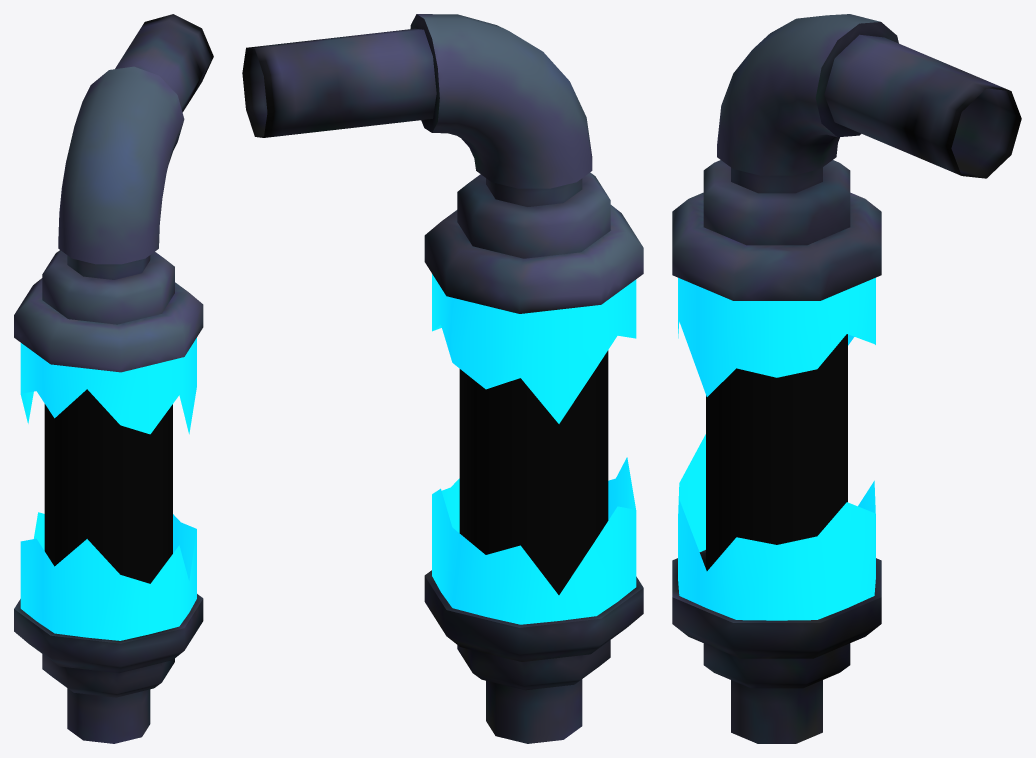
Rendered from finalBoss-reactors3Broken.glb.
3 views of the same model, side by side, from view 1: azimuth 30°, elevation 25°; view 2: azimuth 150°, elevation 25°; view 3: azimuth 270°, elevation 25° (orthographic). The views are drawn at different scales.
Visible parts, largest first — view 1: finalBoss-reactorsBroken3; view 2: finalBoss-reactorsBroken3; view 3: finalBoss-reactorsBroken3.
Part boxes in pixels (x1,y1,x2,y2): finalBoss-reactorsBroken3: [14, 14, 213, 743]; finalBoss-reactorsBroken3: [242, 14, 643, 743]; finalBoss-reactorsBroken3: [672, 14, 1021, 743].
Bounding box in the file's own units: 0.6994 × 1.62 × 0.6994.
Materials: 2 (1 with a texture image).
